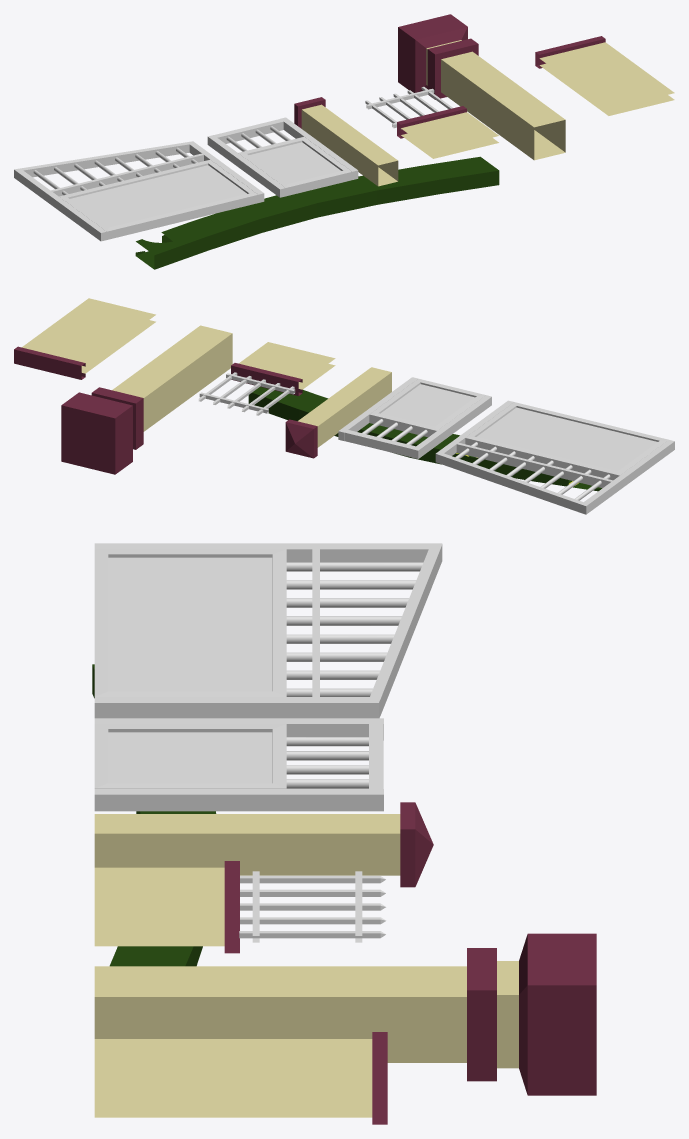
The model's file is gate_architecture.fbx.
3 views of the same model, one above another, from view 1: azimuth 30°, elevation 25°; view 2: azimuth 150°, elevation 25°; view 3: azimuth 270°, elevation 25° (orthographic). The views are drawn at different scales.
Visible parts, largest first — view 1: msh_mainGate, msh_pillarBig, msh_schoolSignage, msh_smallGate, msh_wallFence, msh_fenceGrills, msh_pillarSmall; view 2: msh_mainGate, msh_pillarBig, msh_smallGate, msh_wallFence, msh_fenceGrills, msh_pillarSmall, msh_schoolSignage; view 3: msh_mainGate, msh_pillarBig, msh_smallGate, msh_wallFence, msh_pillarSmall, msh_fenceGrills, msh_schoolSignage.
Part boxes in pixels (<box>): msh_mainGate: <box>14,141,264,241</box>; msh_pillarBig: <box>398,14,565,160</box>; msh_schoolSignage: <box>135,156,499,269</box>; msh_smallGate: <box>207,117,358,197</box>; msh_wallFence: <box>535,36,674,115</box>; msh_fenceGrills: <box>365,86,498,158</box>; msh_pillarSmall: <box>294,97,398,186</box>; msh_mainGate: <box>435,400,674,514</box>; msh_pillarBig: <box>61,325,232,474</box>; msh_smallGate: <box>338,377,491,458</box>; msh_wallFence: <box>14,298,155,379</box>; msh_fenceGrills: <box>198,342,335,415</box>; msh_pillarSmall: <box>285,367,391,458</box>; msh_schoolSignage: <box>248,387,601,491</box>; msh_mainGate: <box>94,543,442,718</box>; msh_pillarBig: <box>94,933,596,1095</box>; msh_smallGate: <box>94,718,383,811</box>; msh_wallFence: <box>94,1032,387,1124</box>; msh_pillarSmall: <box>94,802,433,887</box>; msh_fenceGrills: <box>94,861,385,953</box>; msh_schoolSignage: <box>92,664,216,966</box>.
Size of the model in its own units: 17.33 by 1.74 by 6.6.
